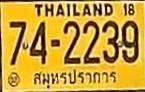2: (82, 20, 99, 63), (63, 20, 79, 63)
3: (102, 20, 118, 62)
4: (29, 20, 46, 63)
7: (9, 20, 26, 64)
9: (121, 20, 138, 62)
SPK: (32, 69, 118, 90)
